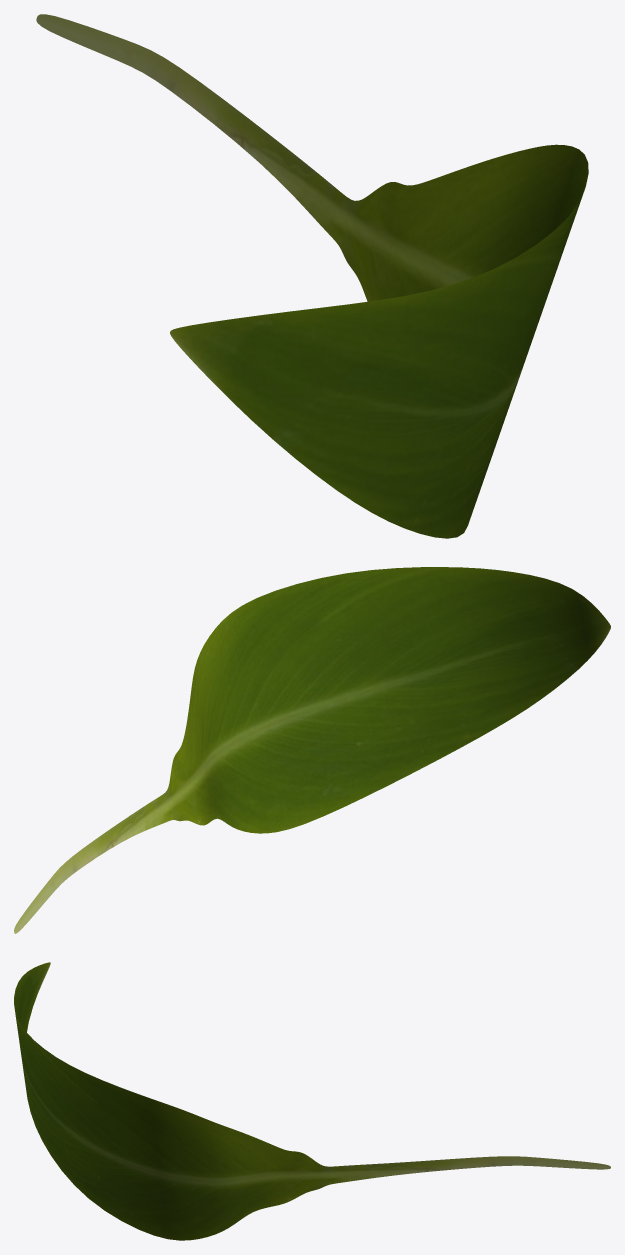
The picture shows the model from 3 angles, top to bottom: view 1: azimuth 30°, elevation 25°; view 2: azimuth 150°, elevation 25°; view 3: azimuth 270°, elevation 25°; orthographic projection. The views are drawn at different scales.
Visible parts, largest first — view 1: Plane.010; view 2: Plane.010; view 3: Plane.010.
Boxes of the visible parts, x1,y1,x2,y2 form: Plane.010: (36,14,588,538); Plane.010: (14,567,610,933); Plane.010: (14,962,610,1240).
Size of the model in its own units: 0.6072 by 0.4084 by 1.2.
1 material, 1 textured.
